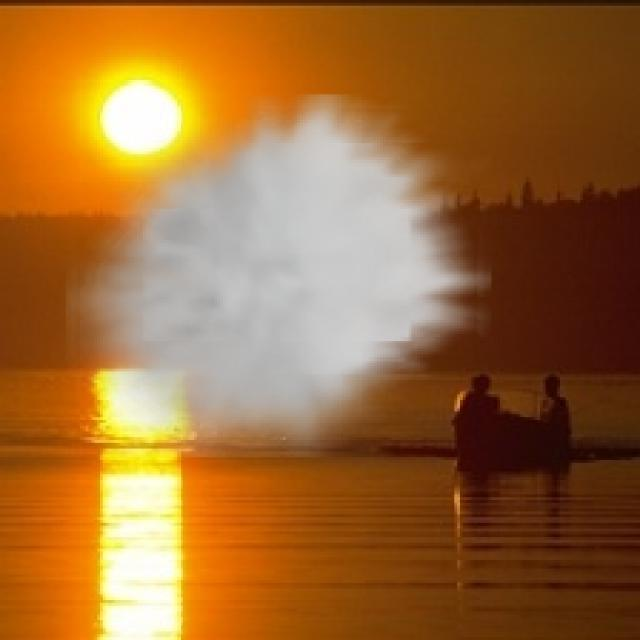Smoke: (66, 94, 492, 457)
